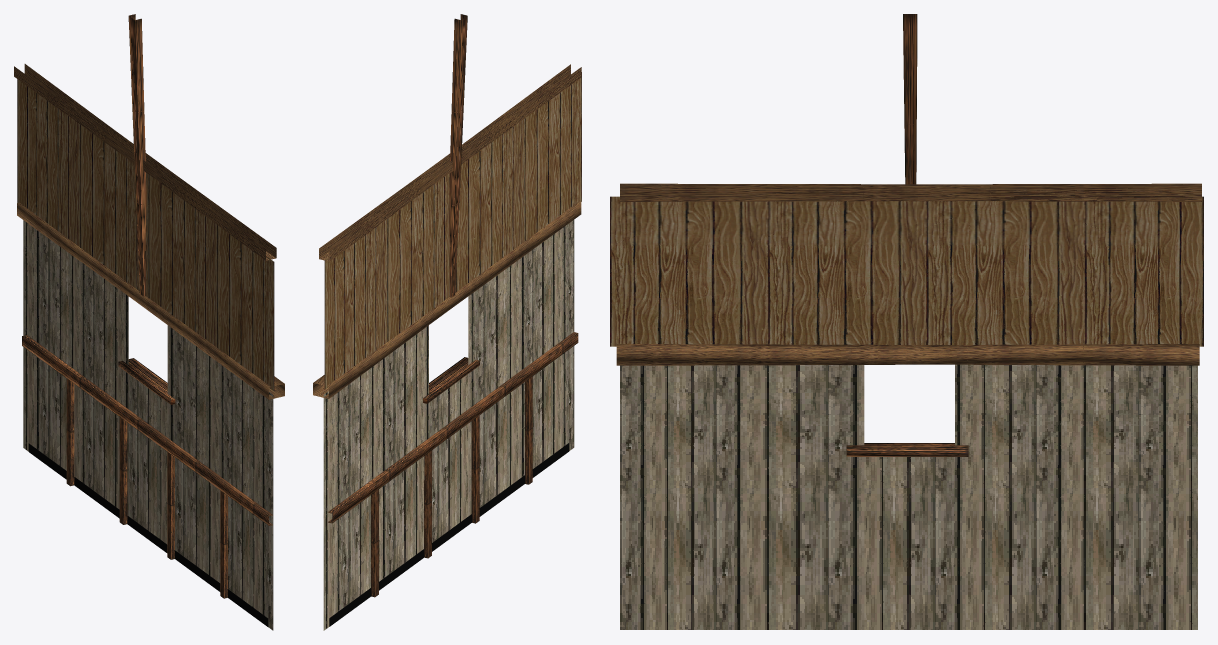
File: LAKETOWN_WAREHOUSE1_PS_WH1_FRONTWALL88112__GX.fbx
3 views of the same model, side by side, from view 1: azimuth 30°, elevation 25°; view 2: azimuth 150°, elevation 25°; view 3: azimuth 270°, elevation 25° (orthographic). The views are drawn at different scales.
Visible parts, largest first — view 1: LAKETOWN_WAREHOUSE1_PS_WH1_FRONTWALL88112__GX; view 2: LAKETOWN_WAREHOUSE1_PS_WH1_FRONTWALL88112__GX; view 3: LAKETOWN_WAREHOUSE1_PS_WH1_FRONTWALL88112__GX.
Boxes of the visible parts, x1,y1,x2,y2 form: LAKETOWN_WAREHOUSE1_PS_WH1_FRONTWALL88112__GX: (14,14,284,630); LAKETOWN_WAREHOUSE1_PS_WH1_FRONTWALL88112__GX: (313,14,581,630); LAKETOWN_WAREHOUSE1_PS_WH1_FRONTWALL88112__GX: (610,14,1203,629).
Size of the model in its own units: 9965 by 182549 by 161897.
6 materials, 6 textured.
